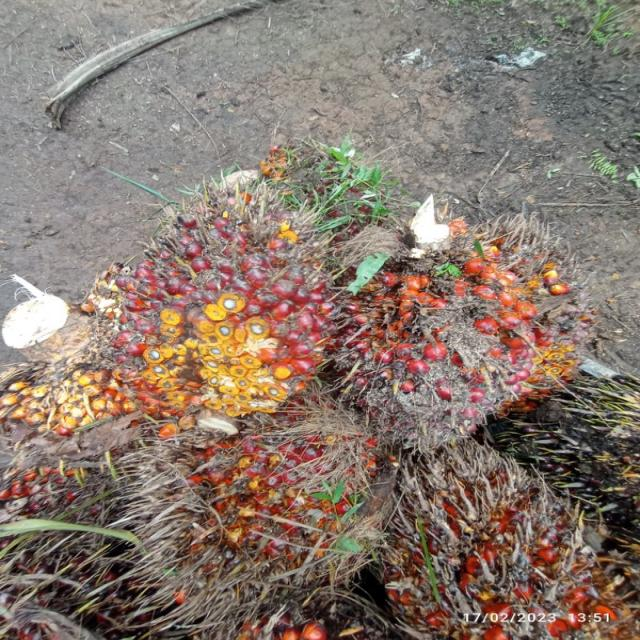fraksi 3: (332, 161, 593, 447), (82, 169, 370, 426), (94, 418, 400, 586)
fraksi 4: (390, 451, 634, 638)
